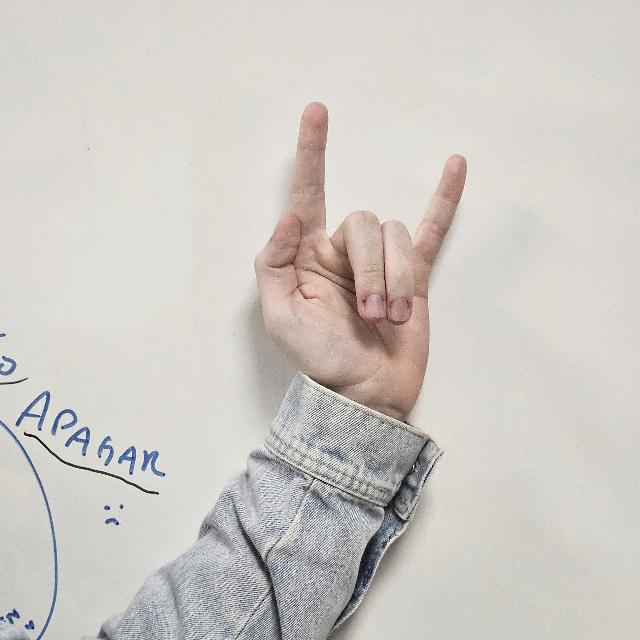L: (256, 98, 468, 424)
